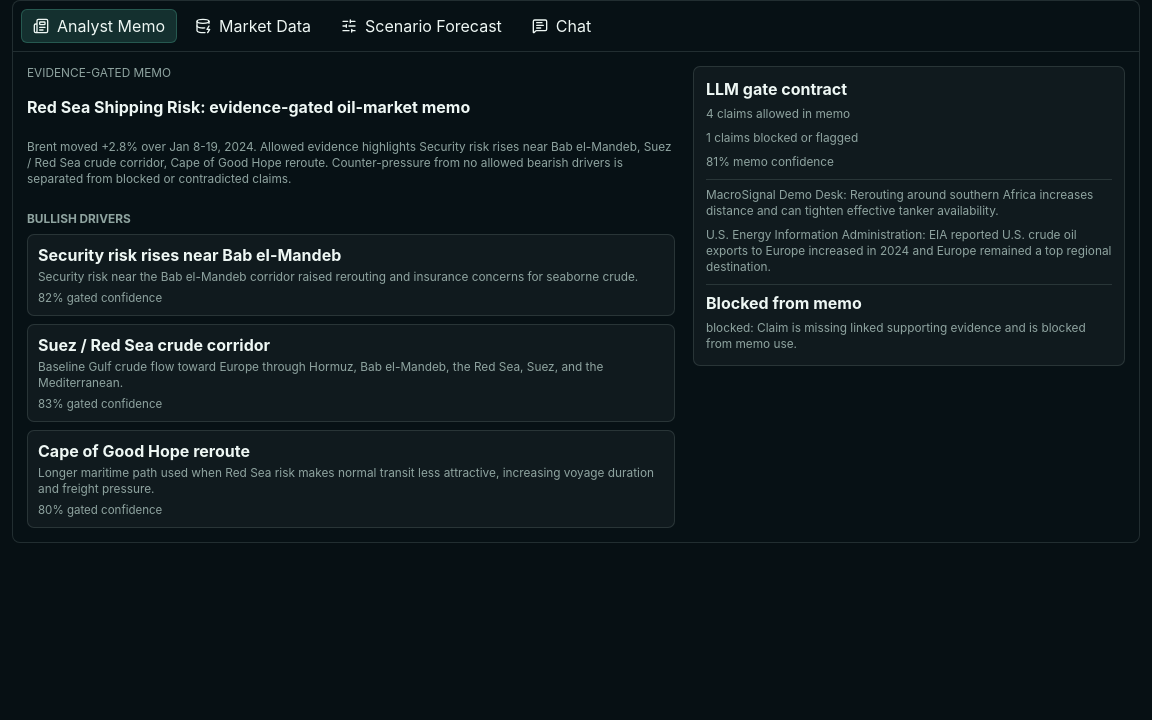
Test: IntelligenceDrawer › switches tab content
Click the tab "Scenario Forecast". click: click(421, 26)
box: x1=329 y1=9 x2=514 y2=43
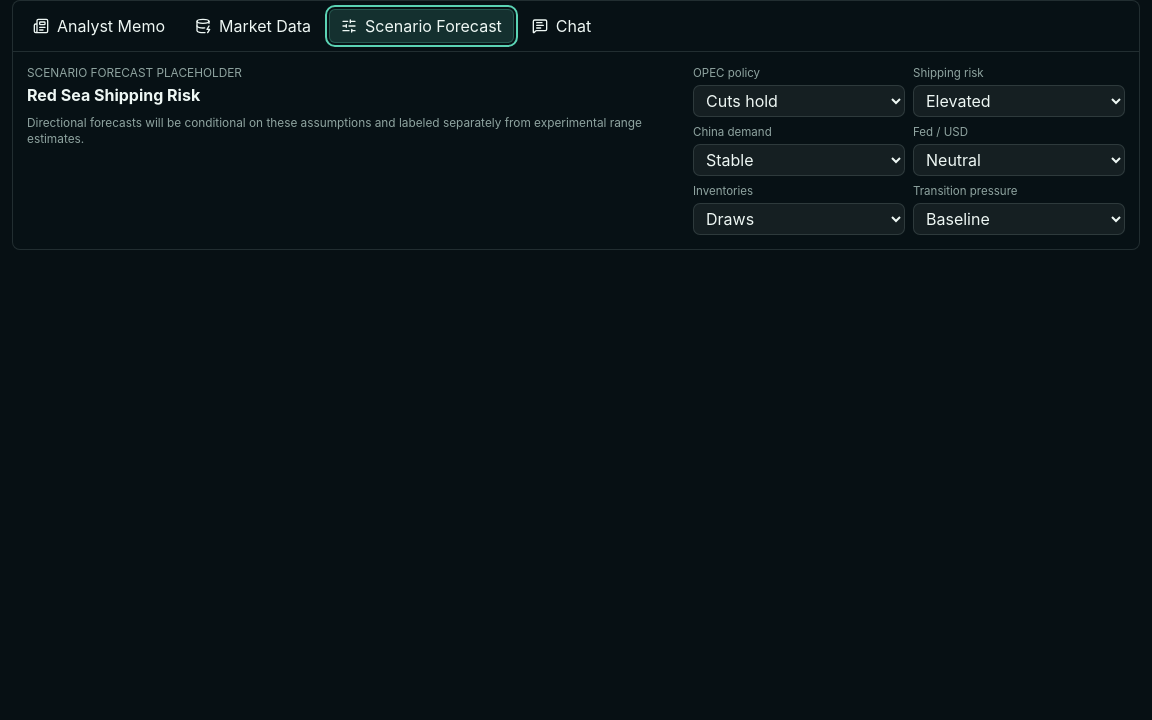
Now the text "OPEC policy" is shown, box x1=693 y1=66 x2=760 y2=80
Click the tab "Chat". click: click(562, 26)
box: x1=520 y1=9 x2=603 y2=43
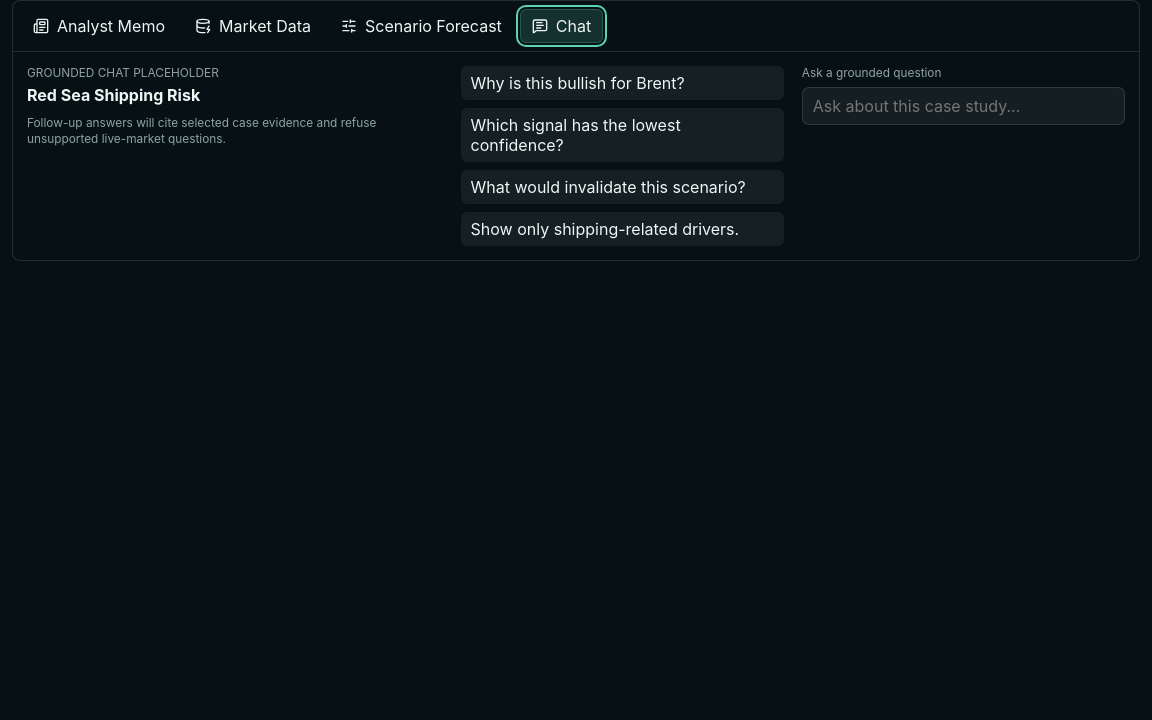
Now the text "Ask a grounded question" is shown, box x1=802 y1=66 x2=942 y2=80
